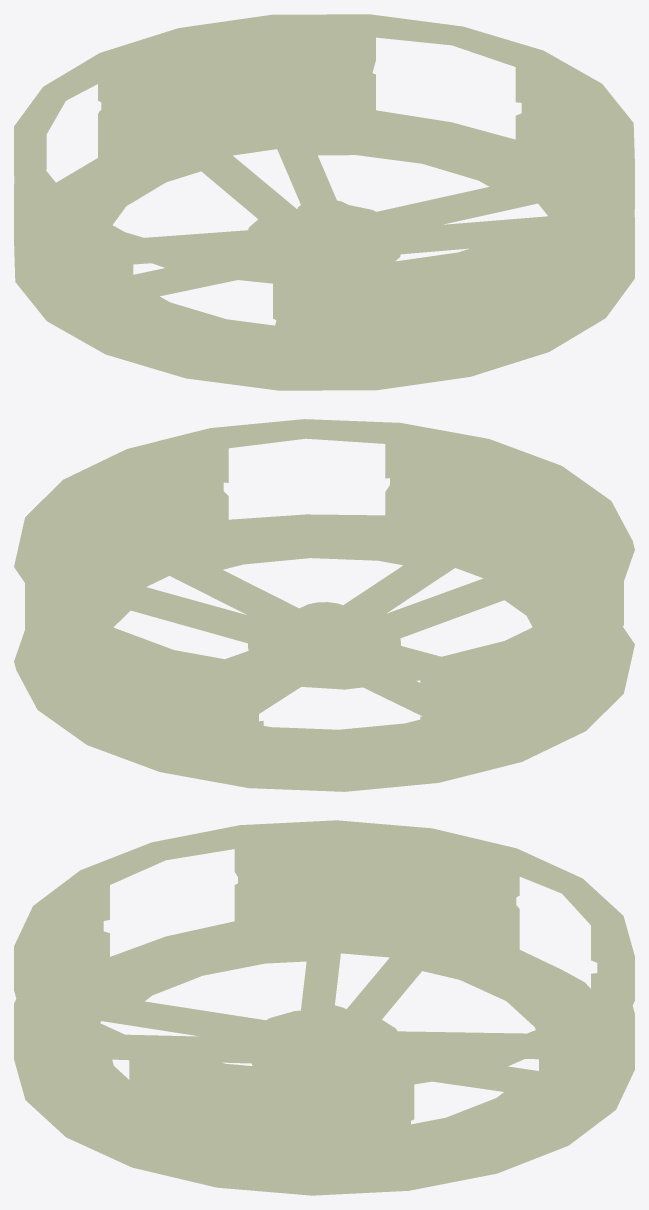
File: wheel_light.dae
3 renders of one model, top to bottom at view 1: azimuth 30°, elevation 25°; view 2: azimuth 150°, elevation 25°; view 3: azimuth 270°, elevation 25°, orthographic.
Visible parts, largest first — view 1: cylinder1-0; view 2: cylinder1-0; view 3: cylinder1-0.
Boxes of the visible parts, x1=… form: cylinder1-0: x1=14, y1=14, x2=634, y2=390; cylinder1-0: x1=14, y1=419, x2=634, y2=791; cylinder1-0: x1=14, y1=820, x2=634, y2=1195.
Size of the model in its own units: 769 by 154 by 769.
